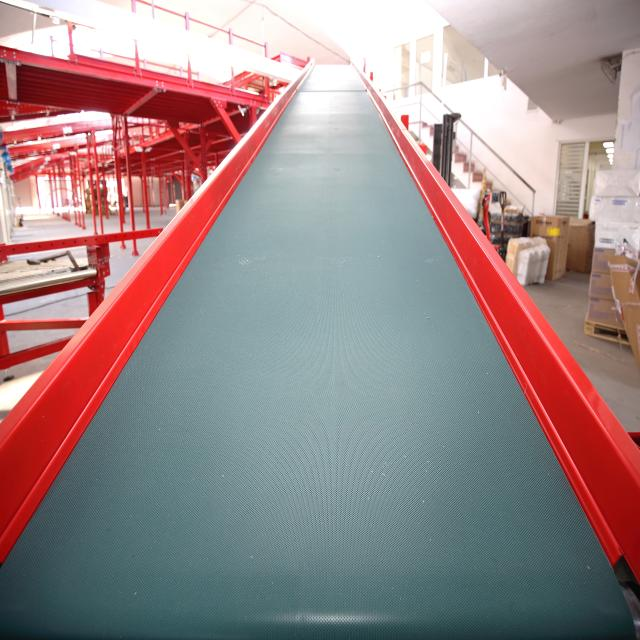conveyor: (1, 47, 640, 639)
